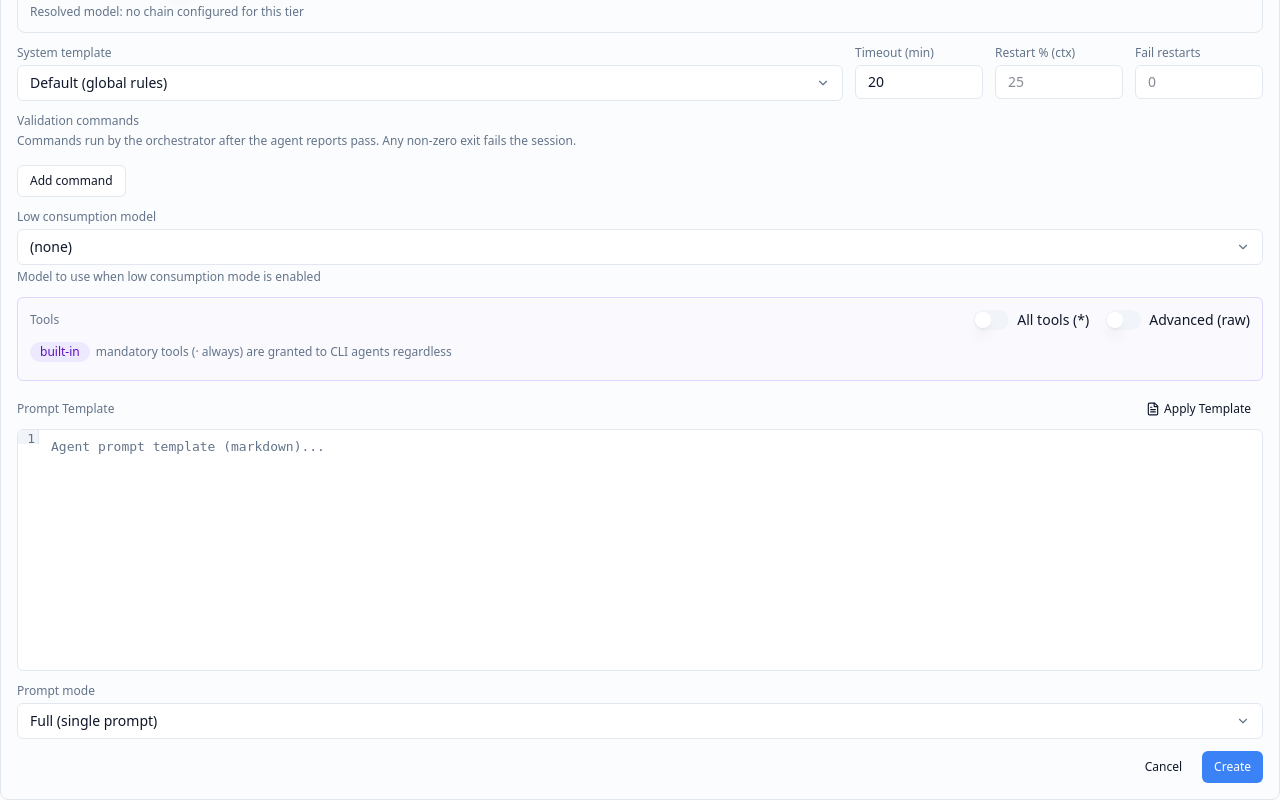
it: AgentDefForm — stepwise prompt mode toggle › reveals the step editor when switched to stepwise
(page scrolled)
Click the button "Full (single prompt)" at point(94, 720), box [17,703,1263,739]
(page scrolled)
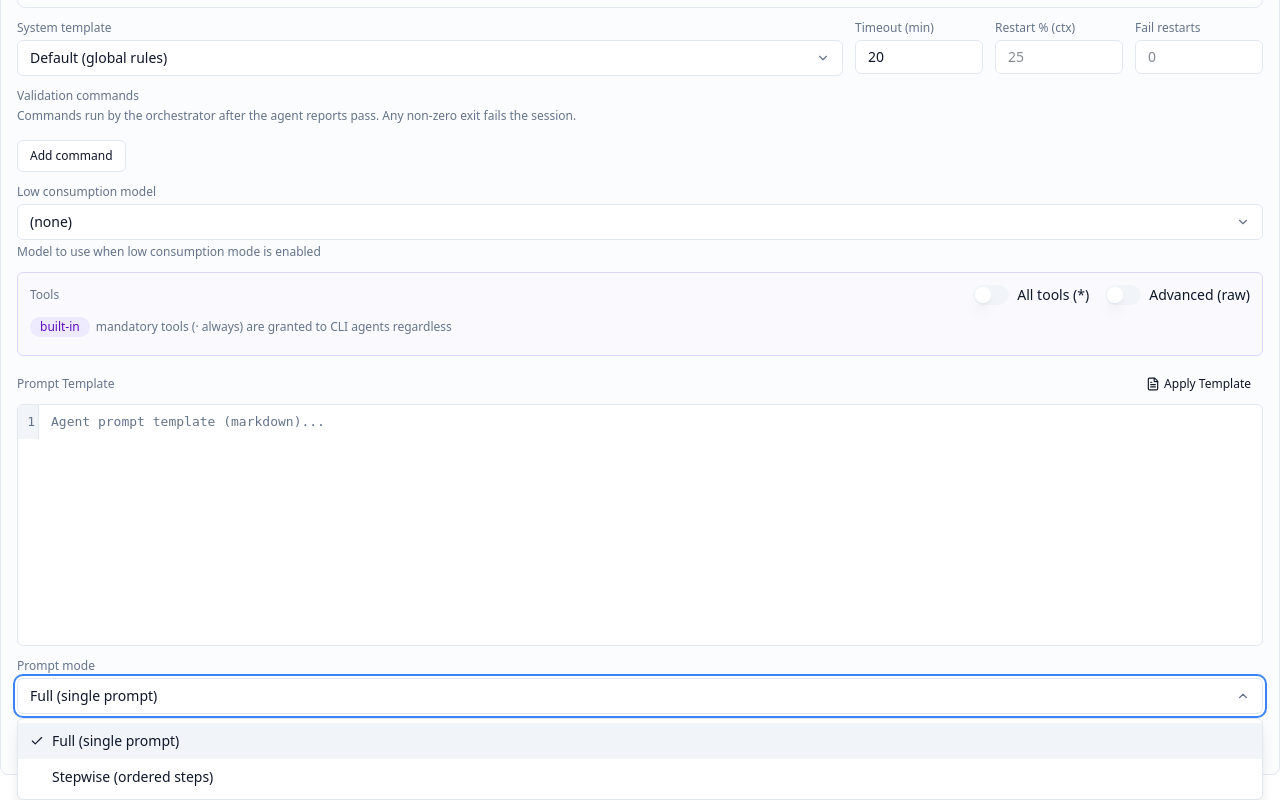
Click the text "Stepwise (ordered steps)" at point(133, 777), box [52,767,213,787]
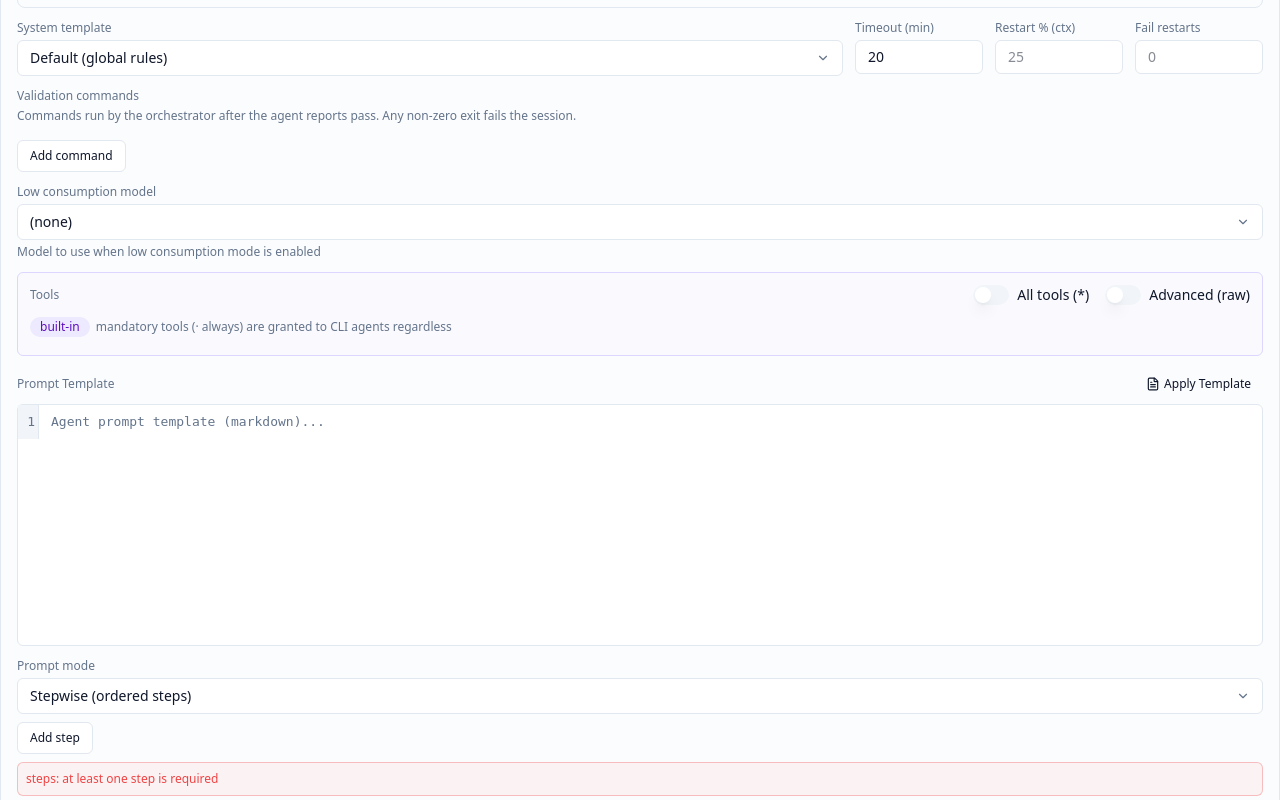
Expected: the button "Add step" is shown, [17,722,93,754]
